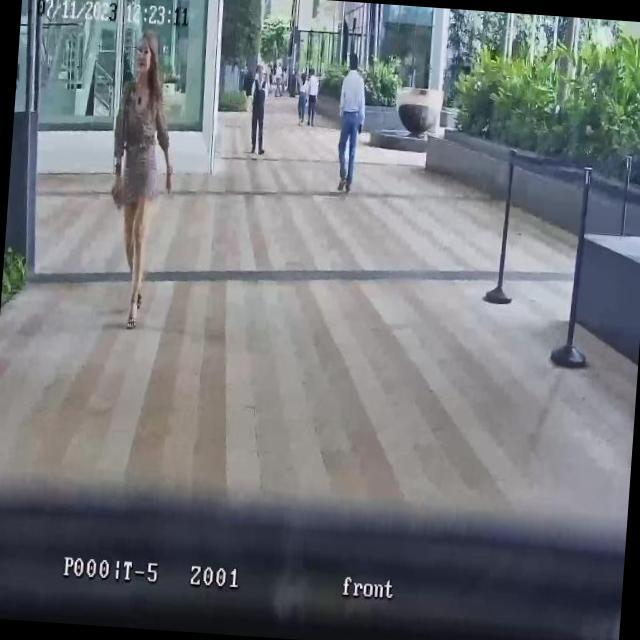person: (100, 28, 184, 333), (333, 53, 370, 194), (247, 62, 270, 156), (303, 67, 320, 127), (296, 71, 310, 125), (274, 64, 284, 98)
